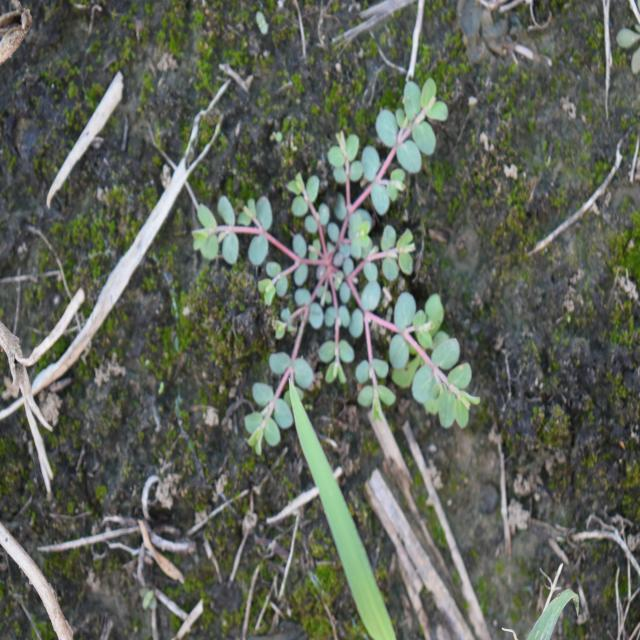SpottedSpurge: (190, 74, 482, 460)
